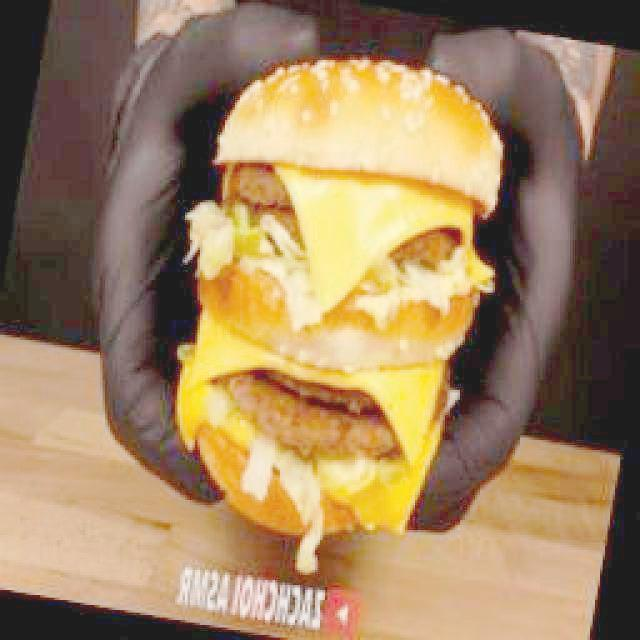burger: (174, 56, 504, 564)
